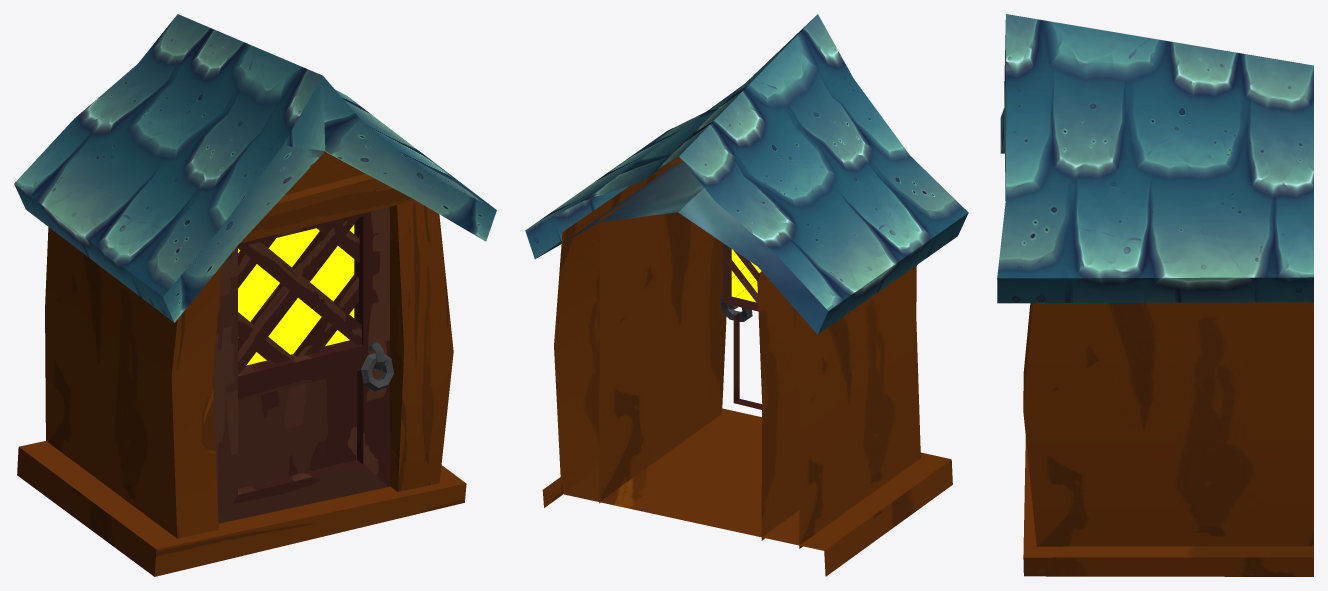
File: SM_BLD_door_v02_01.glb
3 views of the same model, side by side, from view 1: azimuth 30°, elevation 25°; view 2: azimuth 150°, elevation 25°; view 3: azimuth 270°, elevation 25° (orthographic). The views are drawn at different scales.
Visible parts, largest first — view 1: SM_BLD_door_v02_01_EXPORT; view 2: SM_BLD_door_v02_01_EXPORT; view 3: SM_BLD_door_v02_01_EXPORT.
Boxes of the visible parts, bbox=[...] form: SM_BLD_door_v02_01_EXPORT: bbox=[14, 14, 496, 576]; SM_BLD_door_v02_01_EXPORT: bbox=[525, 14, 968, 576]; SM_BLD_door_v02_01_EXPORT: bbox=[997, 14, 1313, 576].
Size of the model in its own units: 2.45 by 3.29 by 1.94.
5 materials, 5 textured.
